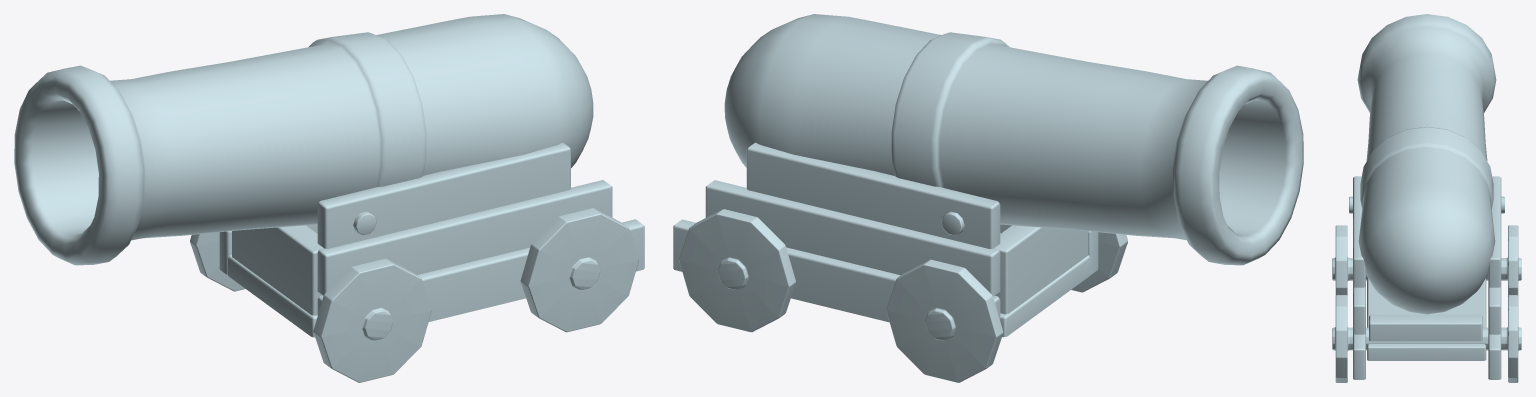
Rendered from Canon_FixedPivot.fbx.
The picture shows the model from 3 angles, left to right: view 1: azimuth 30°, elevation 25°; view 2: azimuth 150°, elevation 25°; view 3: azimuth 270°, elevation 25°; orthographic projection. The views are drawn at different scales.
Parts seen in each view (by area): view 1: CANON_V2_BackLEFT; view 2: CANON_V2_BackLEFT; view 3: CANON_V2_BackLEFT.
Boxes of the visible parts, <box> form: CANON_V2_BackLEFT: <box>14,14,644,382</box>; CANON_V2_BackLEFT: <box>673,14,1303,382</box>; CANON_V2_BackLEFT: <box>1332,14,1521,382</box>.
Bounding box in the file's own units: 1.85 × 1.02 × 0.8122.
